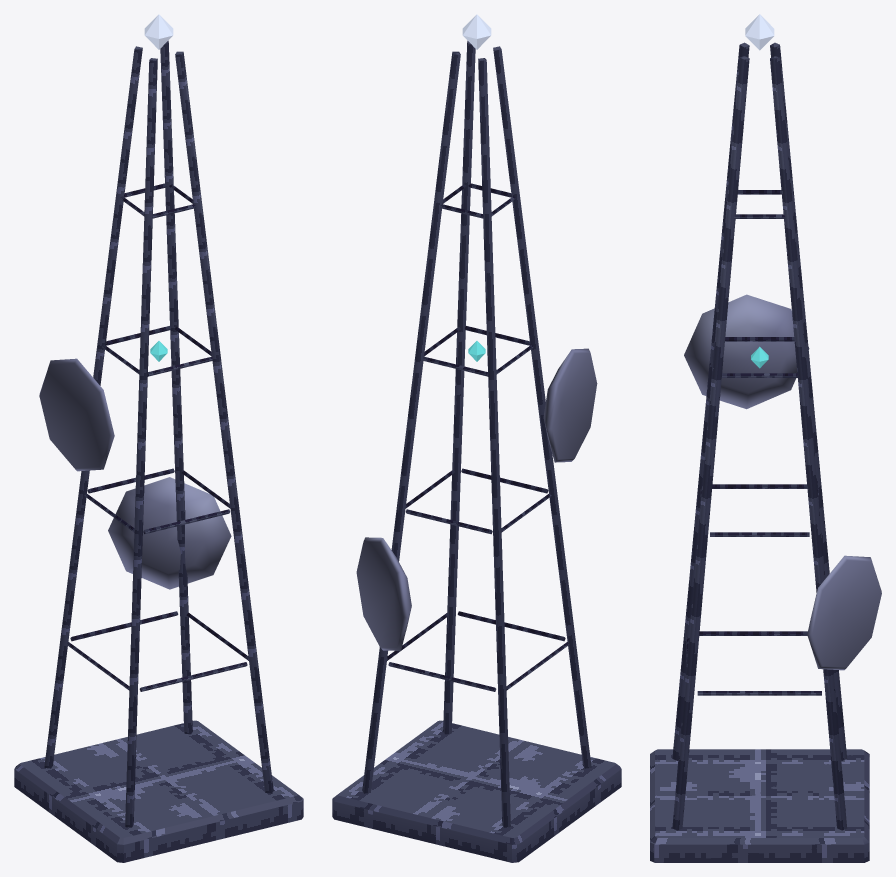
The model's file is cytower.spire.glb.
3 renders of one model, left to right at view 1: azimuth 30°, elevation 25°; view 2: azimuth 150°, elevation 25°; view 3: azimuth 270°, elevation 25°, orthographic.
Parts seen in each view (by area): view 1: kit_mast, kit_beacon; view 2: kit_mast, kit_beacon; view 3: kit_mast, kit_beacon.
Boxes of the visible parts, left/top/right/bottom form: kit_mast: left=14, top=40, right=303, bottom=862; kit_beacon: left=144, top=14, right=173, bottom=361; kit_mast: left=332, top=40, right=621, bottom=862; kit_beacon: left=462, top=14, right=491, bottom=361; kit_mast: left=650, top=42, right=881, bottom=862; kit_beacon: left=745, top=14, right=774, bottom=368.
Size of the model in its own units: 2.69 by 10.49 by 2.75.
5 materials, 4 textured.
